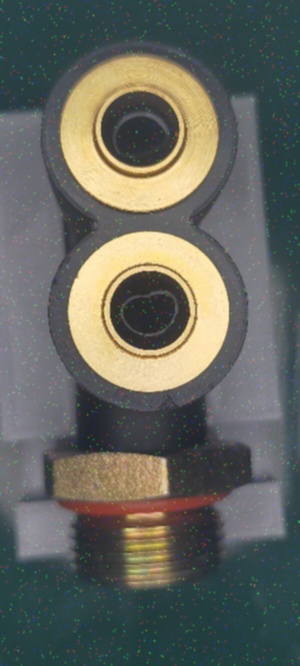bump: (146, 393, 189, 422)
off-centered: (114, 282, 188, 340), (104, 108, 176, 161)
